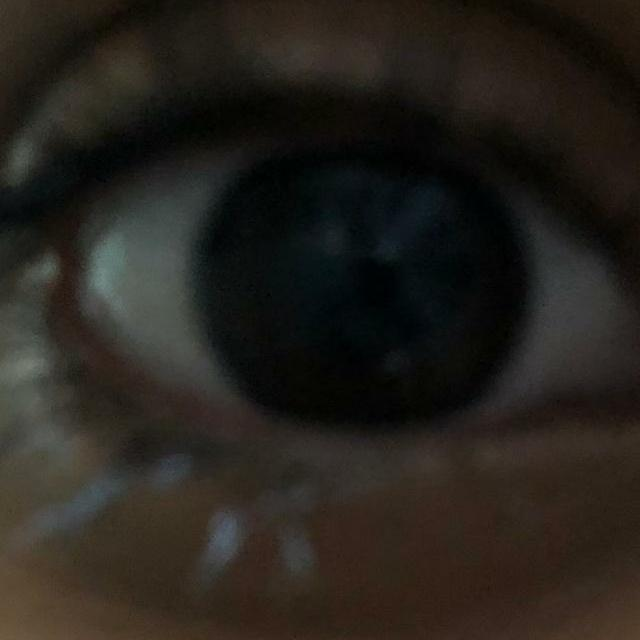eye: (72, 118, 640, 434)
iris: (197, 148, 534, 420)
